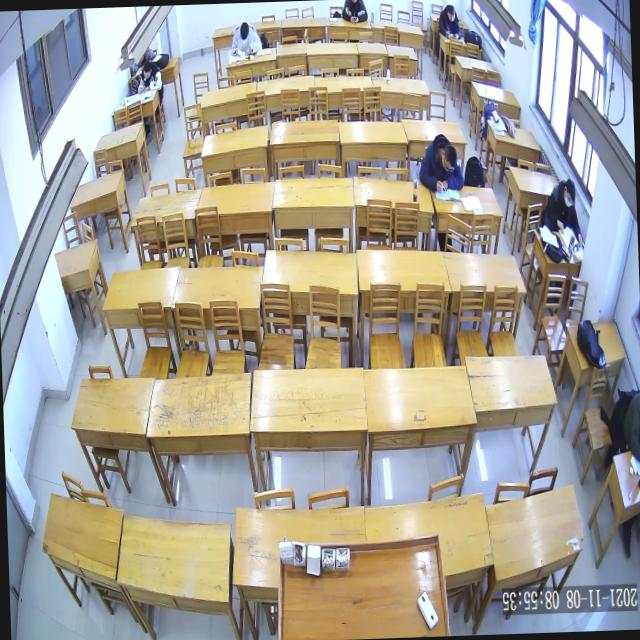bow: (417, 132, 464, 192)
down: (441, 144, 456, 172), (562, 177, 576, 207), (239, 20, 249, 40), (142, 60, 152, 79), (446, 5, 455, 22)
sit: (541, 177, 581, 239), (230, 19, 262, 55), (136, 59, 164, 95), (438, 4, 460, 39)
